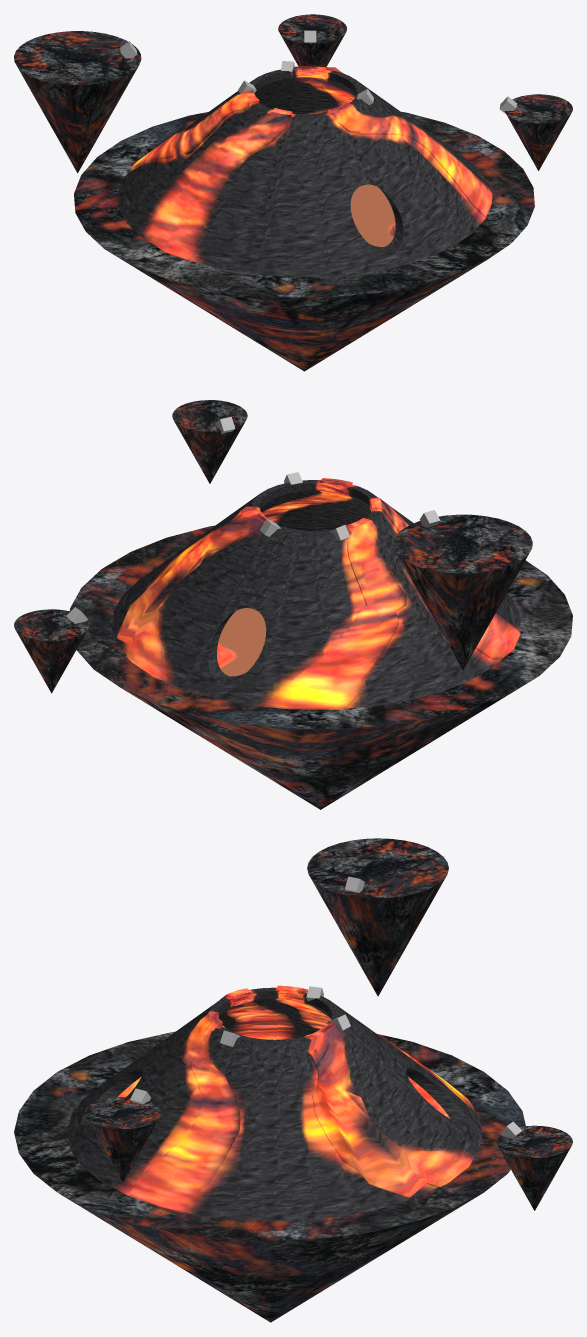
File: Volcano Map.fbx
The picture shows the model from 3 angles, top to bottom: view 1: azimuth 30°, elevation 25°; view 2: azimuth 150°, elevation 25°; view 3: azimuth 270°, elevation 25°; orthographic projection. The views are drawn at different scales.
Visible parts, largest first — view 1: Volcano, Ground, Cone_002, Outer3, Outer1, Cone_001, Cone, Outer4, Outer2; view 2: Volcano, Ground, Cone_002, Outer4, Outer2, Cone, Cone_001, Outer3, Outer1; view 3: Volcano, Ground, Cone_002, Outer2, Outer1, Cone_001, Cone, Outer3, Outer4.
Part boxes in pixels (x1,y1,x2,y2): Volcano: [118, 69, 490, 277]; Ground: [74, 111, 534, 371]; Cone_002: [14, 31, 141, 173]; Outer3: [143, 108, 292, 261]; Outer1: [322, 102, 492, 217]; Cone_001: [504, 94, 572, 170]; Cone: [278, 14, 346, 66]; Outer4: [131, 90, 259, 169]; Outer2: [292, 66, 355, 102]; Volcano: [112, 480, 520, 709]; Ground: [69, 525, 572, 809]; Cone_002: [393, 514, 532, 670]; Outer4: [267, 517, 406, 709]; Outer2: [117, 506, 277, 680]; Cone: [14, 609, 89, 693]; Cone_001: [172, 400, 247, 483]; Outer3: [370, 497, 520, 659]; Outer1: [262, 478, 352, 525]; Volcano: [67, 987, 482, 1221]; Ground: [14, 1031, 525, 1322]; Cone_002: [307, 838, 448, 996]; Outer2: [305, 1021, 472, 1197]; Outer1: [129, 1011, 240, 1212]; Cone_001: [84, 1097, 160, 1181]; Cone: [496, 1125, 572, 1210]; Outer3: [220, 988, 277, 1039]; Outer4: [275, 985, 473, 1108].
Bounding box in the file's own units: 3563 × 2619 × 3579.
Materials: 4 (2 with a texture image).
